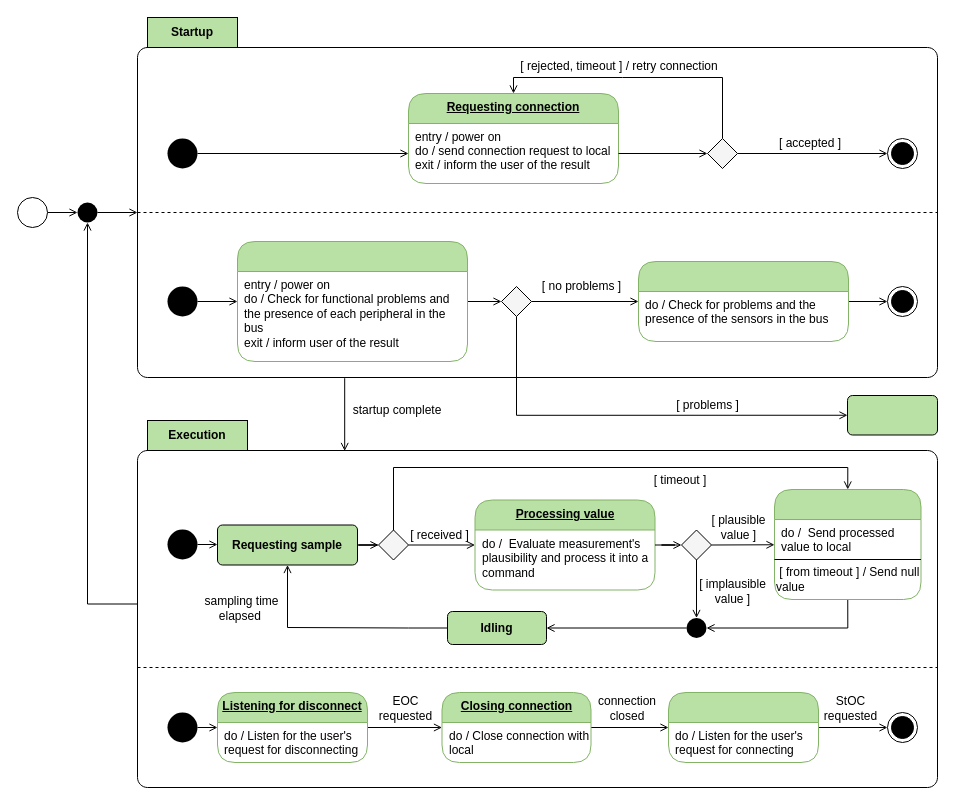
Image size: 956x805. Some labels were removed from this diagram. The box of each missing label's shape, as (x1, y1, x2, y2) in pixels:
Error: (846, 394, 938, 435)
Initializing parameters: (638, 260, 848, 342)
Listening for connect: (668, 692, 818, 762)
Sending value to local: (774, 488, 921, 600)
Verifying harware peripherals integrity: (236, 240, 468, 362)
